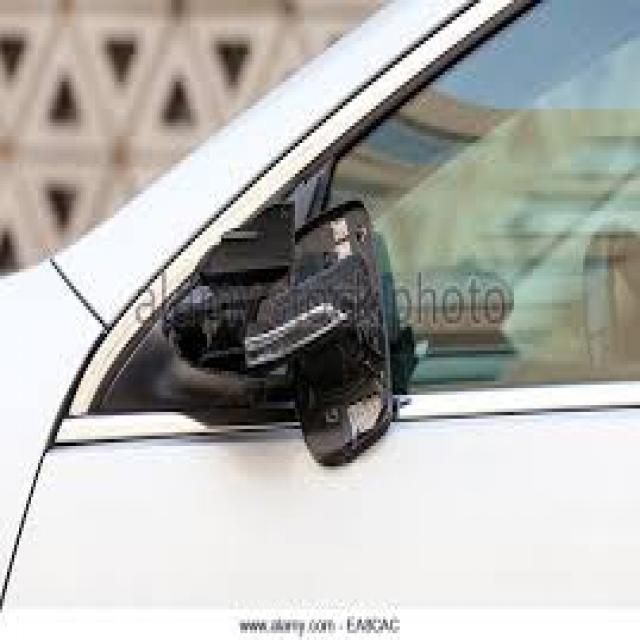minor: (156, 201, 464, 455)
